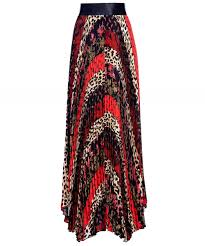C_skirt: (45, 2, 170, 243)
